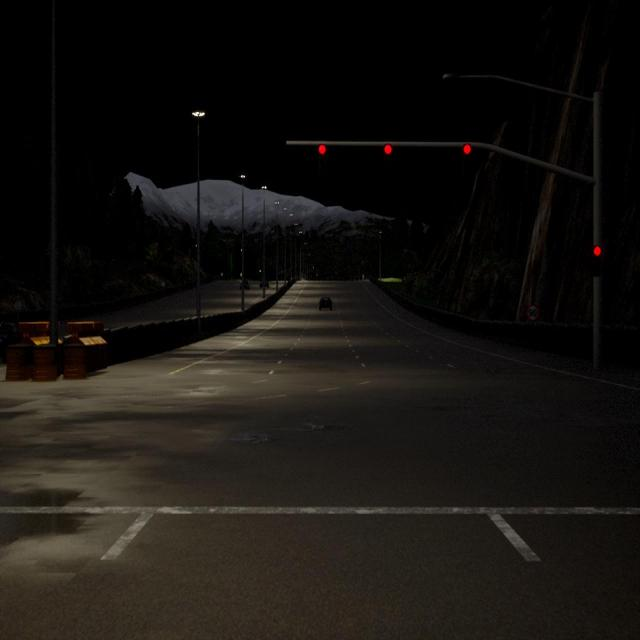Traffic_Signs: (526, 306, 538, 320), (14, 301, 21, 310), (161, 282, 165, 286)
Vehicle: (319, 296, 332, 312), (240, 279, 250, 290), (260, 279, 268, 289)
traffic_light: (592, 244, 602, 276), (463, 143, 472, 155), (384, 144, 392, 154), (319, 144, 326, 155)
